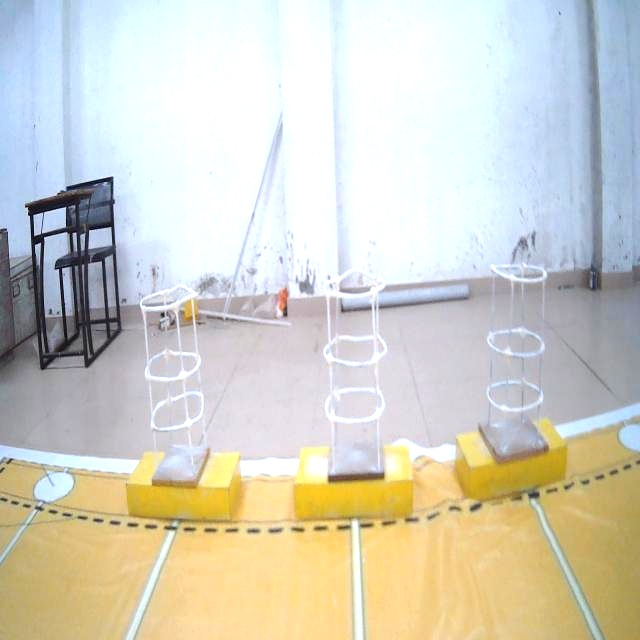silo: (314, 255, 404, 493), (132, 276, 224, 506)
